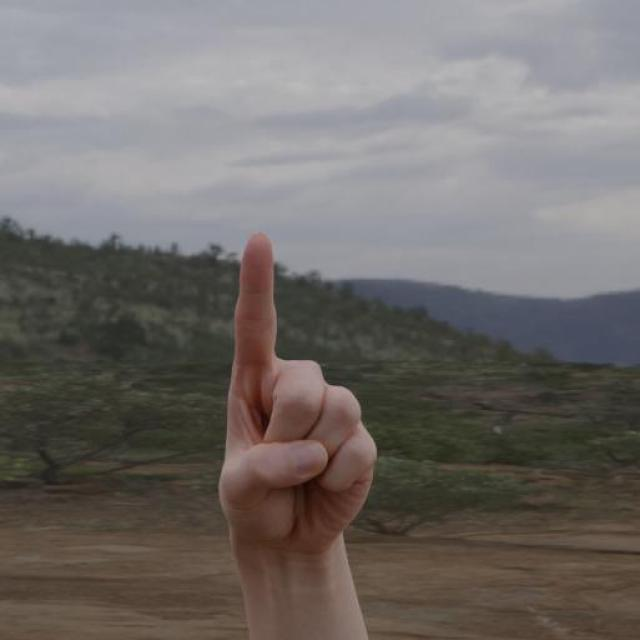Z: (192, 200, 434, 630)
